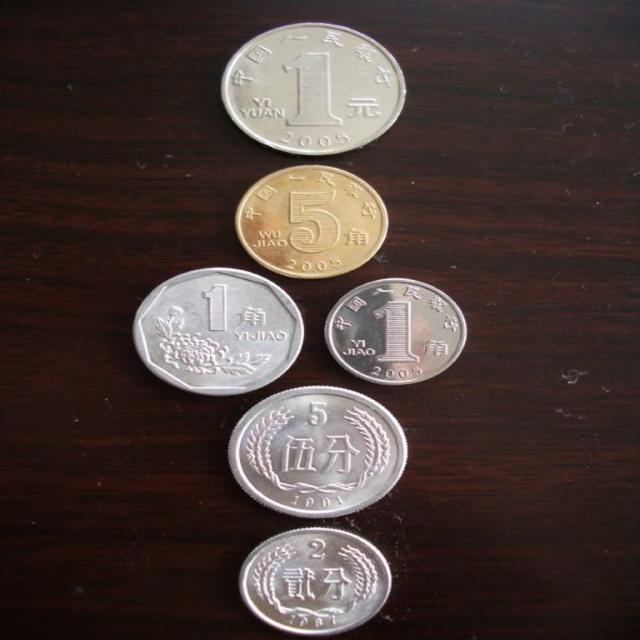Coin: (221, 22, 405, 154), (121, 266, 299, 394), (229, 384, 405, 511), (233, 525, 398, 634), (234, 164, 390, 279), (323, 276, 476, 384)
